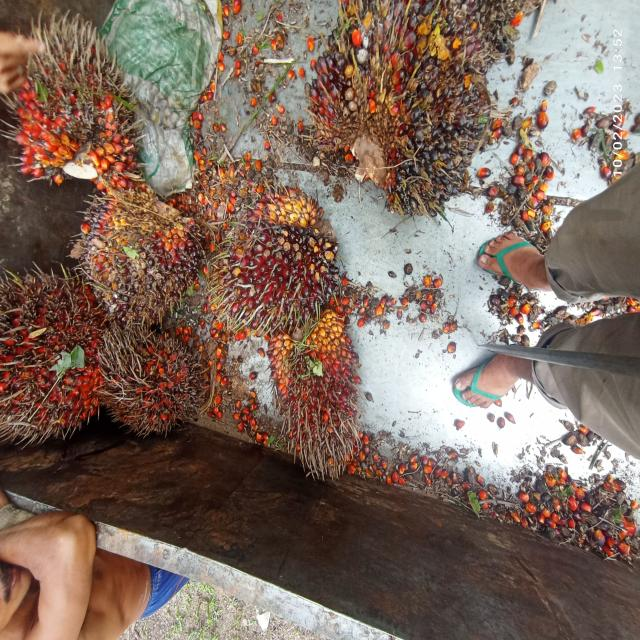fraksi 00: (311, 0, 501, 241), (69, 179, 200, 341)
fraksi 1: (210, 182, 340, 347)
fraksi 3: (255, 312, 371, 493)
fraksi 4: (2, 22, 133, 214), (1, 261, 113, 455), (103, 323, 209, 438)
